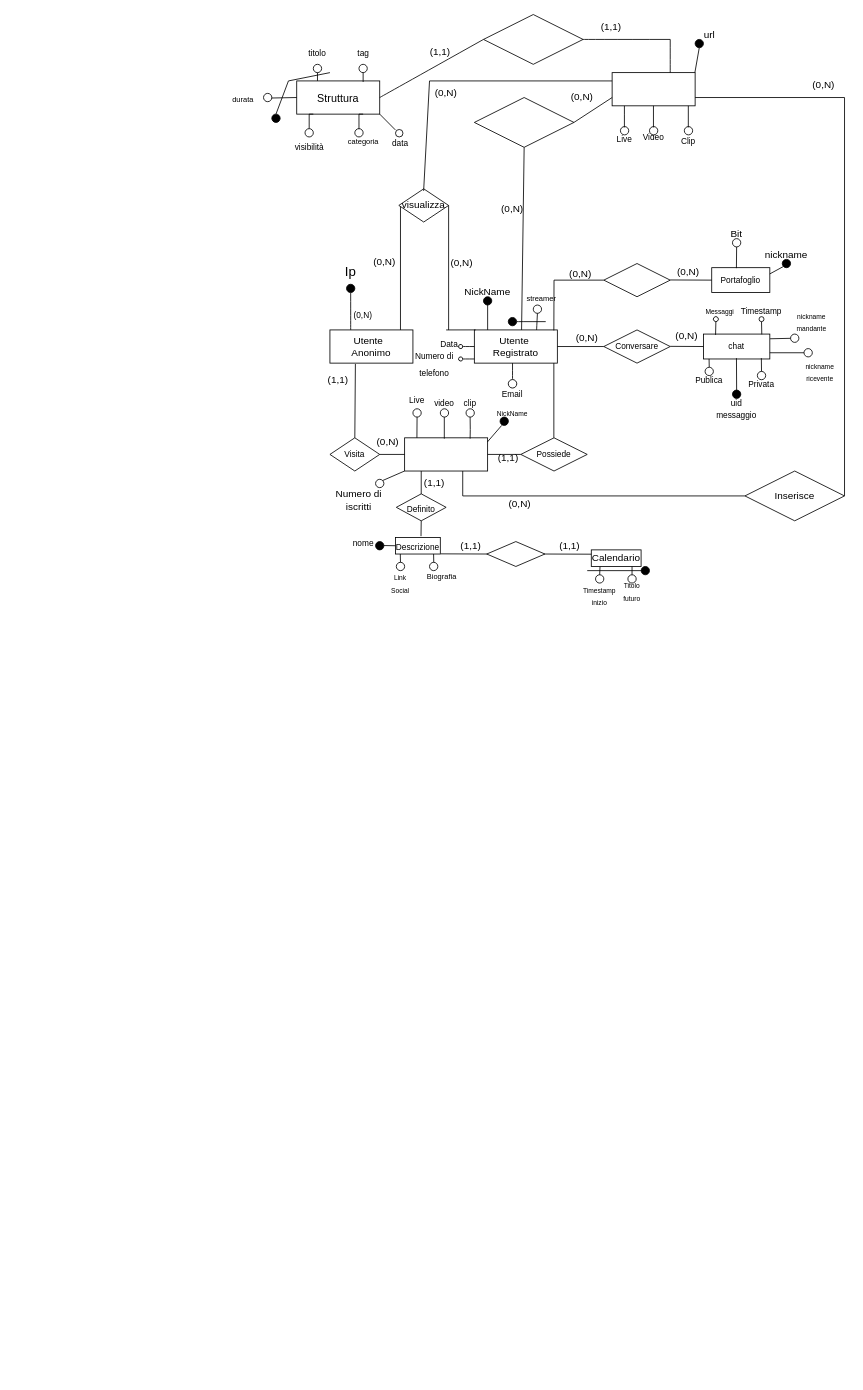
This 863x1390 diagram has some shape labels left out. The shapes that lost their labels are listed below. From the top down, each one's centre as x and y in pixels, then its label:
At pixel 533 39: "impostato".
At pixel 653 89: "Contenuti".
At pixel 524 122: "Produce".
At pixel 636 280: "Supporto".
At pixel 446 454: "Canale".
At pixel 515 553: "Contiene".
